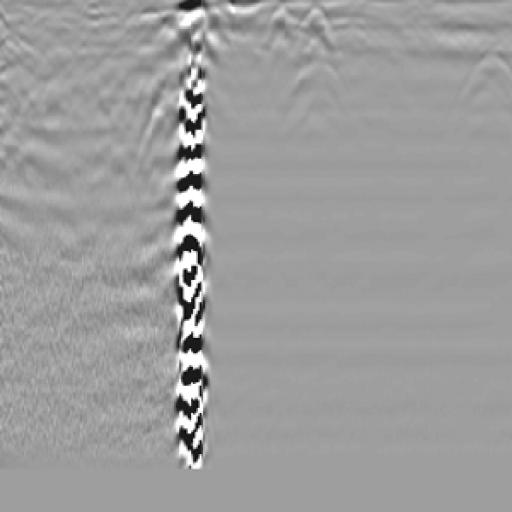metalic: (269, 30, 368, 239)
nonmetalic: (429, 52, 512, 178)
